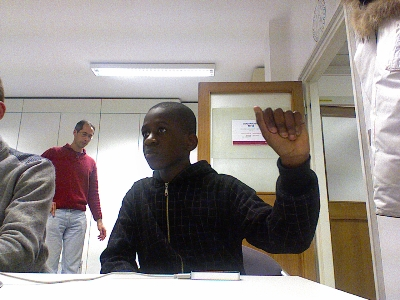石头: (251, 104, 310, 159)
